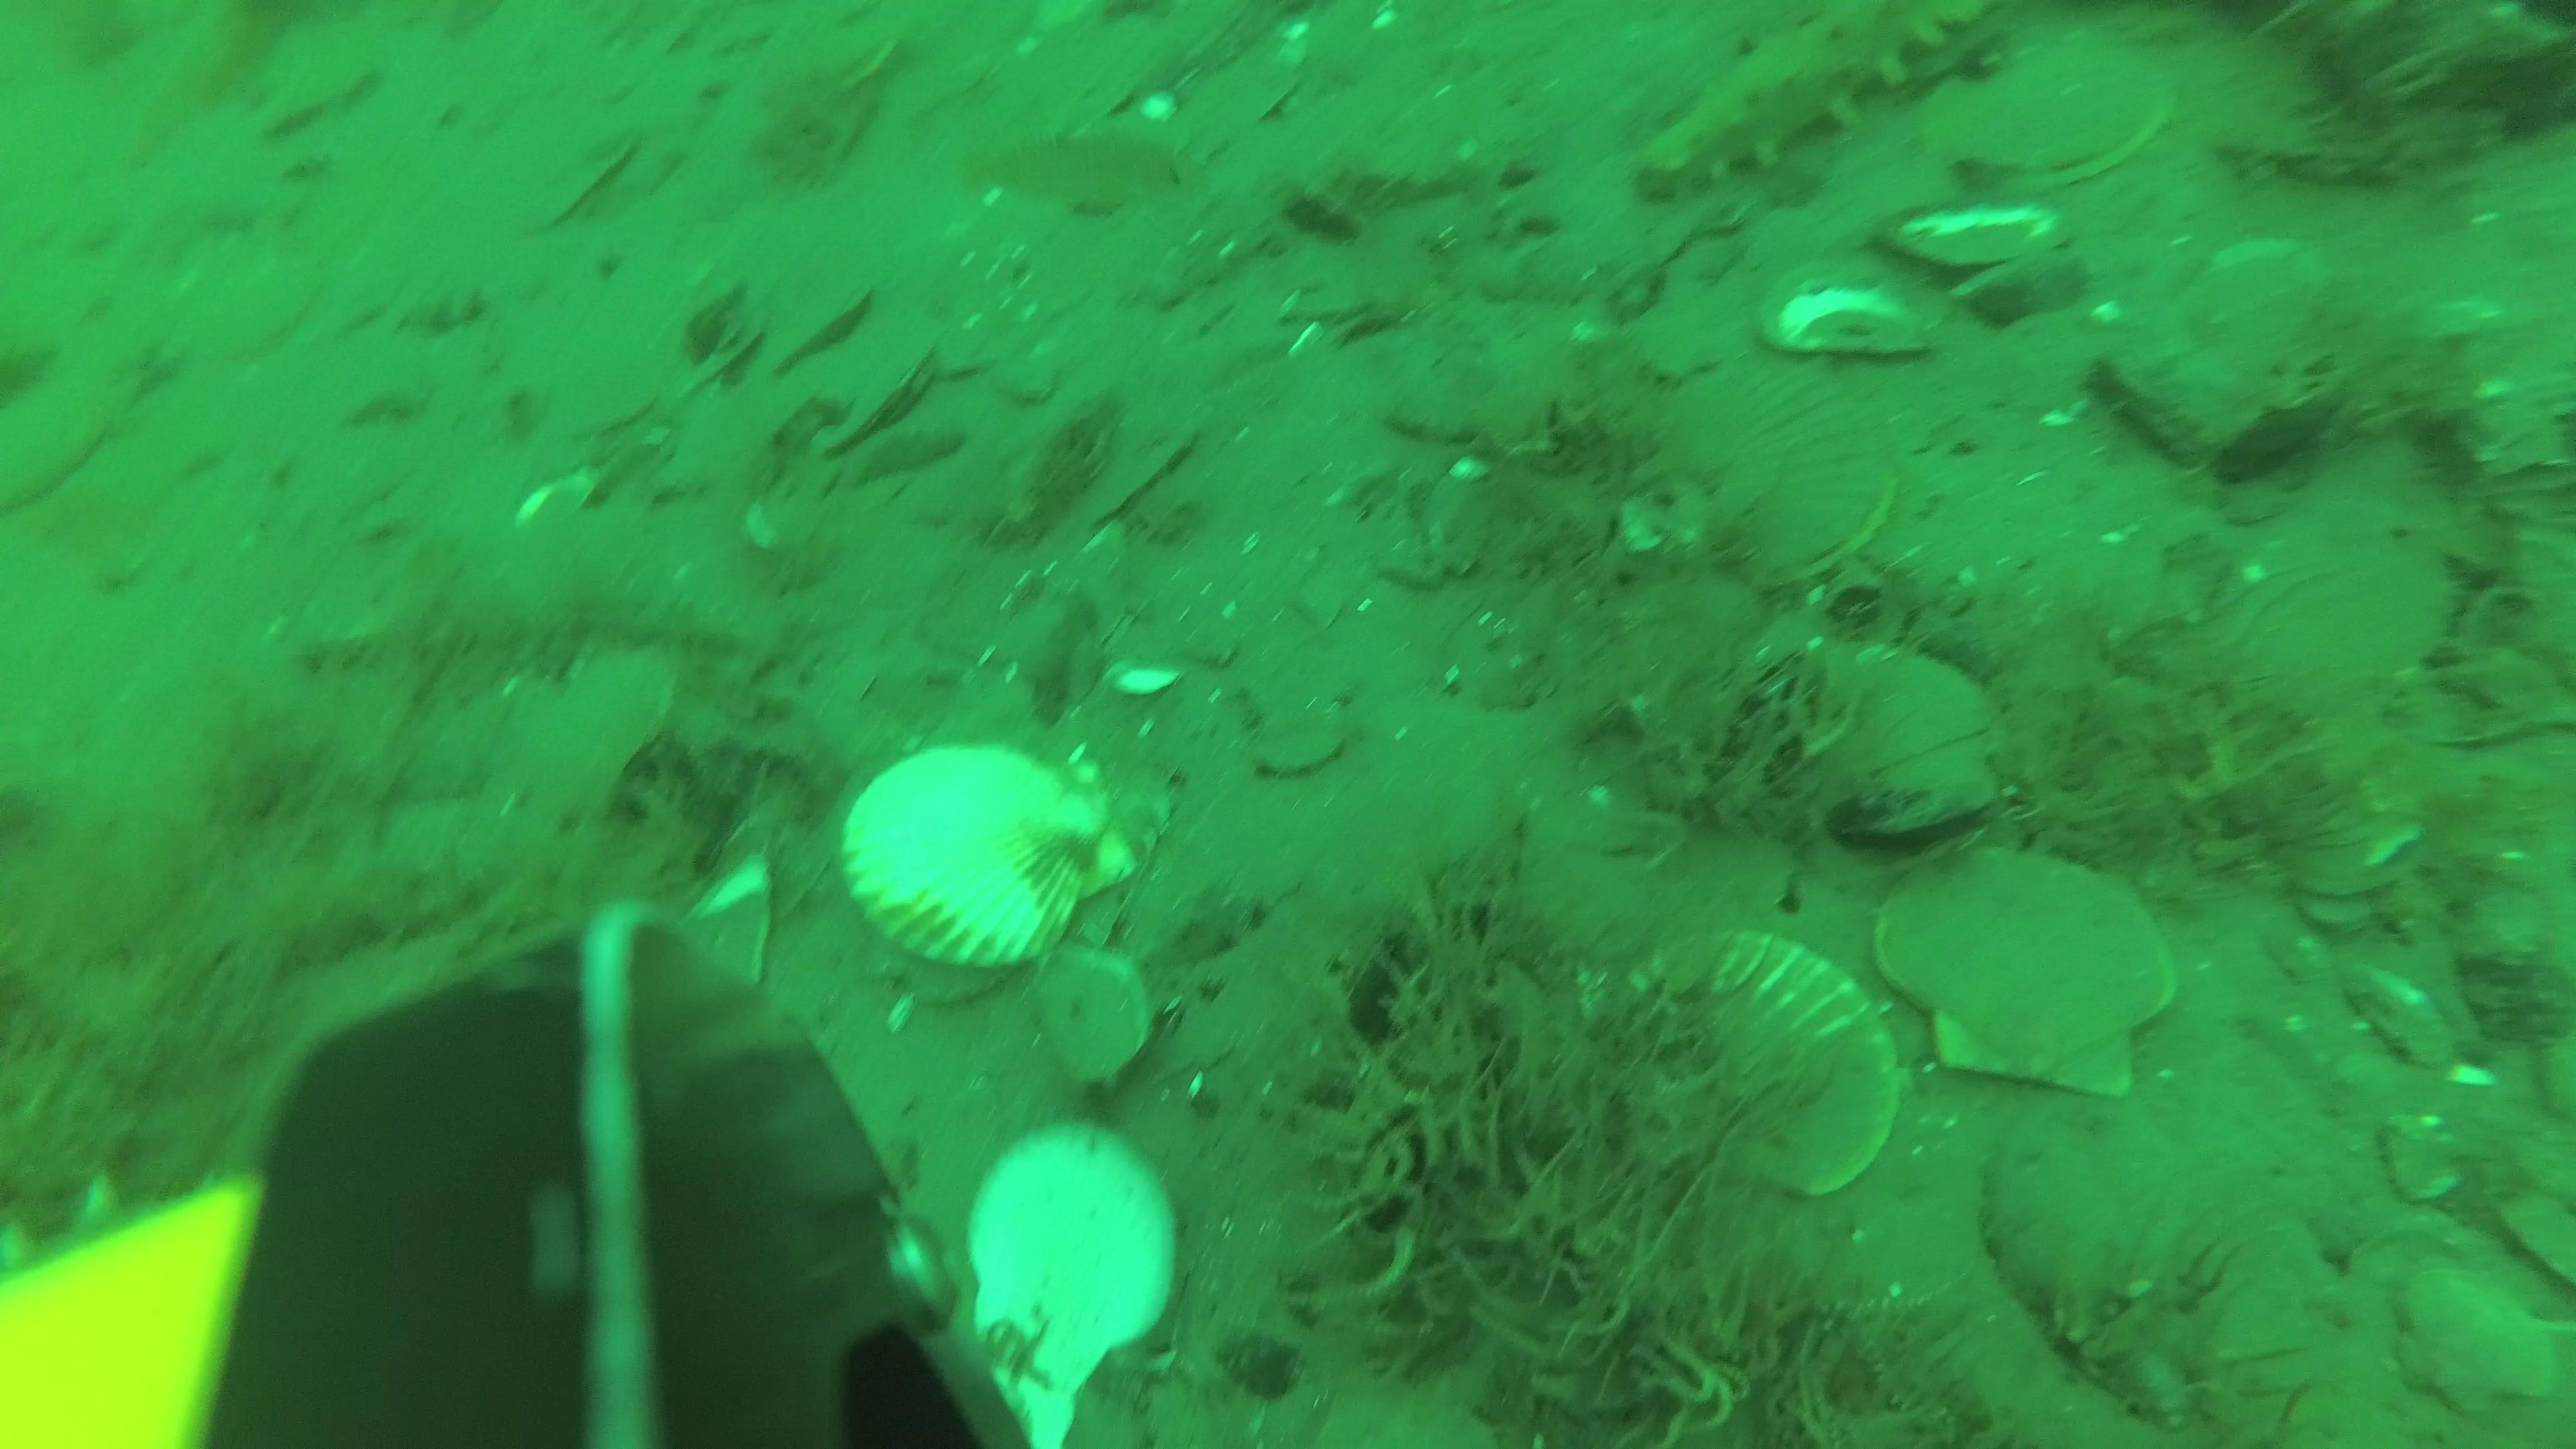holothurian: (1624, 5, 2035, 207)
scallop: (1594, 931, 1897, 1207), (1874, 844, 2185, 1099), (846, 732, 1138, 985), (947, 1131, 1185, 1401), (1640, 357, 1902, 594), (1744, 640, 2010, 844), (1930, 30, 2181, 209), (2390, 1254, 2576, 1422)
